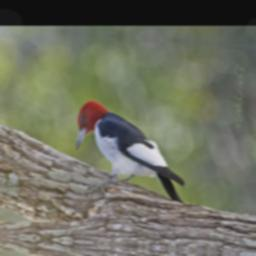Woodpecker: (69, 96, 193, 209)
